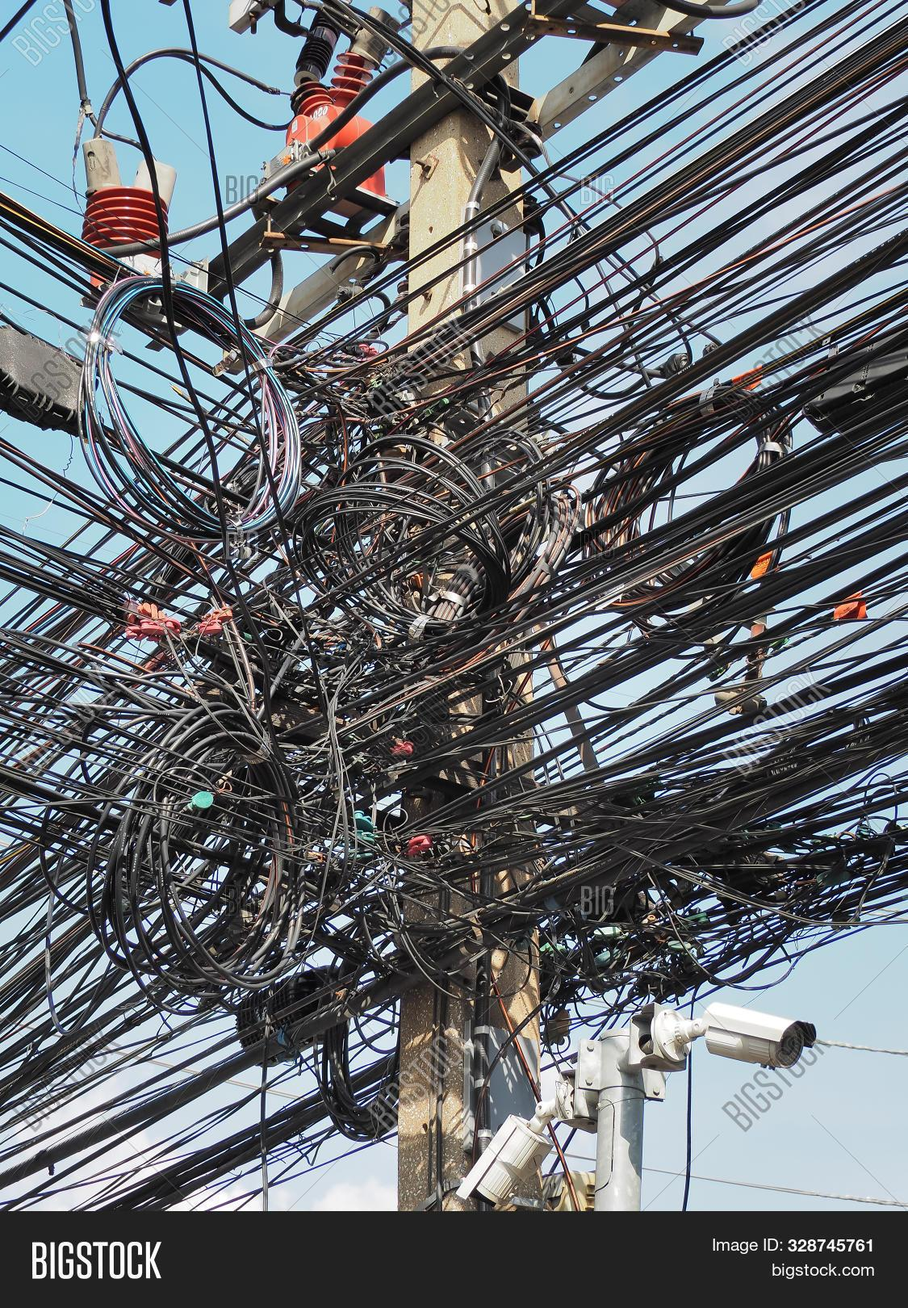wires-only: (0, 109, 908, 1038)
